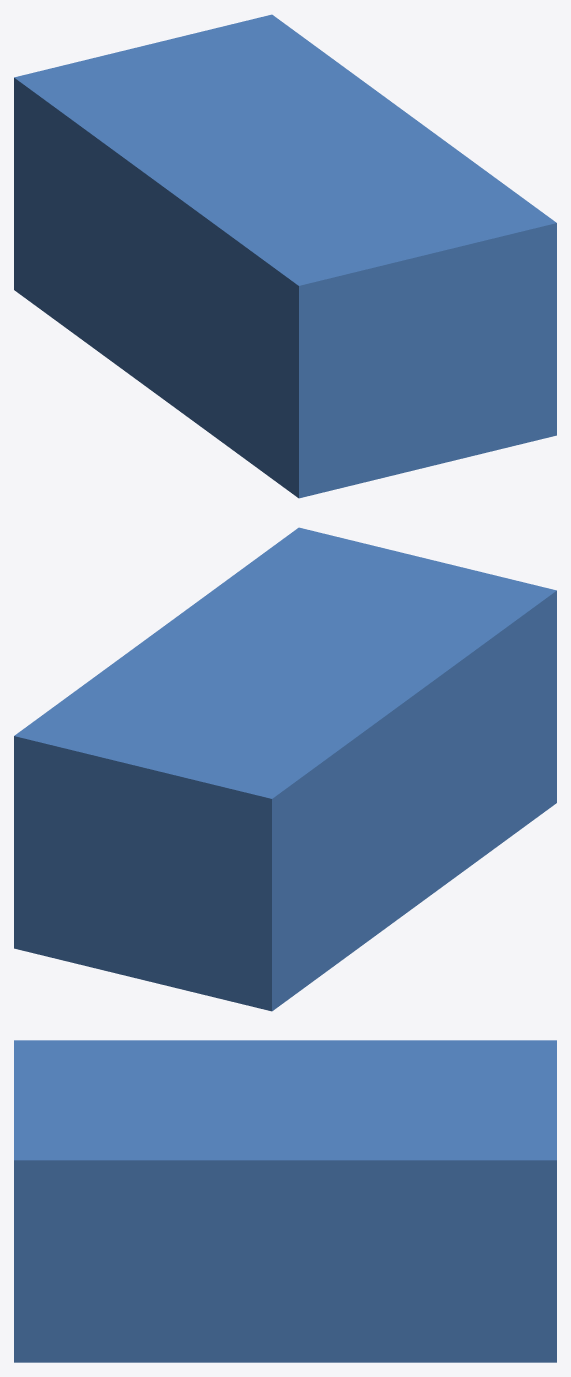
Rendered from scene_06_obstacle_forest_v01.obj.
3 views of the same model, one above another, from view 1: azimuth 30°, elevation 25°; view 2: azimuth 150°, elevation 25°; view 3: azimuth 270°, elevation 25° (orthographic). The views are drawn at different scales.
Visible parts, largest first — view 1: boundary_side, boundary_ceiling; view 2: boundary_side, boundary_ceiling; view 3: boundary_side, boundary_ceiling.
Part boxes in pixels (x1,y1,x2,y2): boundary_side: (14,78,556,498); boundary_ceiling: (14,14,556,285); boundary_side: (14,591,556,1011); boundary_ceiling: (14,527,556,798); boundary_side: (14,1160,556,1362); boundary_ceiling: (14,1040,556,1160).
Size of the model in its own units: 10.05 by 7.91 by 19.21.
